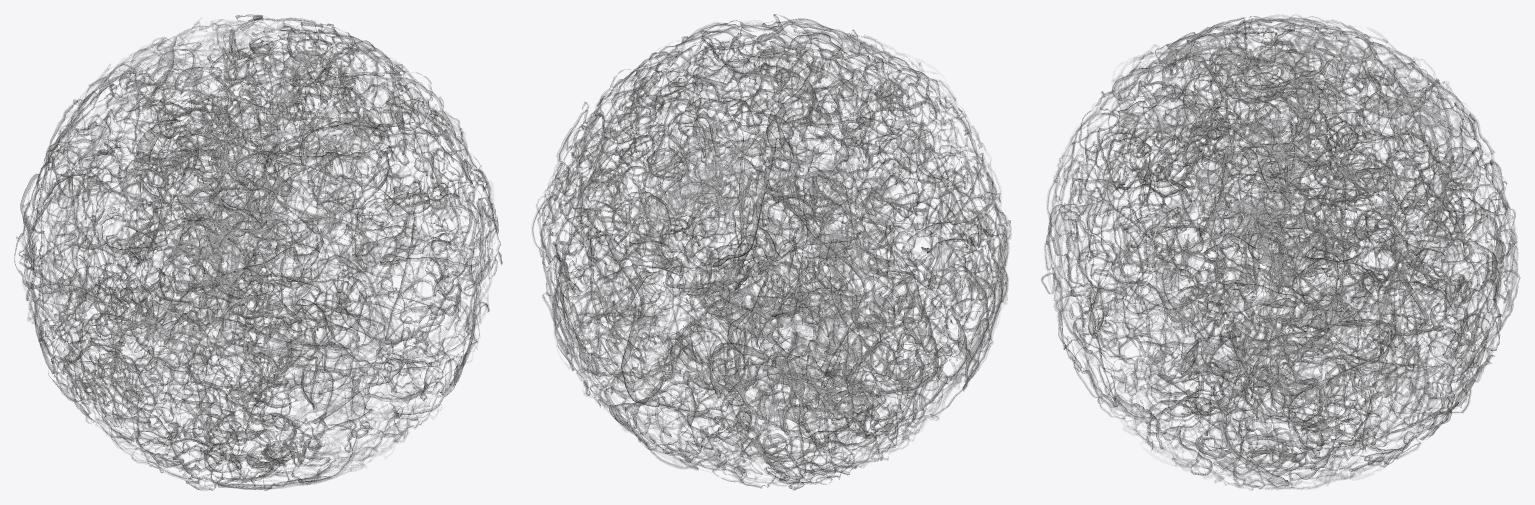
The model's file is mesh_index.glb.
The picture shows the model from 3 angles, left to right: view 1: azimuth 30°, elevation 25°; view 2: azimuth 150°, elevation 25°; view 3: azimuth 270°, elevation 25°; orthographic projection. The views are drawn at different scales.
Parts seen in each view (by area): view 1: NewOfflineLineRendererPrefab_1_Clone__1; view 2: NewOfflineLineRendererPrefab_1_Clone__1; view 3: NewOfflineLineRendererPrefab_1_Clone__1.
Boxes of the visible parts, x1=… form: NewOfflineLineRendererPrefab_1_Clone__1: x1=14, y1=14, x2=502, y2=490; NewOfflineLineRendererPrefab_1_Clone__1: x1=532, y1=14, x2=1011, y2=490; NewOfflineLineRendererPrefab_1_Clone__1: x1=1041, y1=14, x2=1520, y2=489.
Bounding box in the file's own units: 1.75 × 1.69 × 1.72.
1 material, 1 textured.
